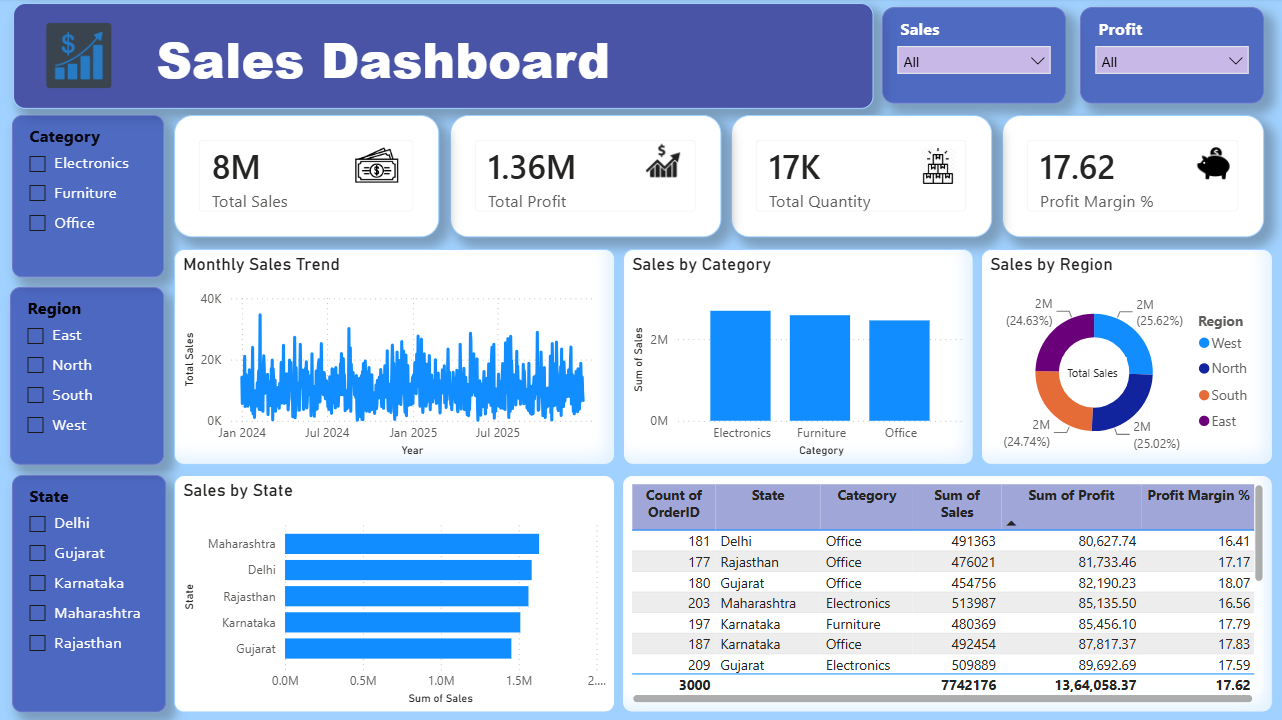

What the dashboard file says about the page in this screenshot:
{"tool":"powerbi","page":{"name":"Page 1","canvas":[1280,720],"ordinal":0},"visuals":[{"type":"textbox","box":[29.2,4.9,837.4,103.1],"z":0},{"type":"slicer","fields":{"Values":["SalesData.Category"]},"box":[28.2,113.8,147.8,157.6],"z":1000},{"type":"image","box":[44.7,16.5,97.3,78.8],"z":2000},{"type":"slicer","fields":{"Values":["SalesData.Region"]},"box":[26.3,281.1,149.8,173.1],"z":3000},{"type":"slicer","fields":{"Values":["SalesData.State"]},"box":[28.2,464,149.8,231.5],"z":4000},{"type":"slicer","fields":{"Values":["SalesData.Sales"]},"box":[874.4,8.8,179,94.3],"z":5000},{"type":"slicer","fields":{"Values":["SalesData.Profit"]},"box":[1067,8.8,179,94.3],"z":6000},{"type":"cardVisual","fields":{"Data":["SalesData.Profit Margin %"]},"box":[991.1,113.8,254.8,118.7],"z":7000},{"type":"cardVisual","fields":{"Data":["SalesData.Total Quantity"]},"box":[727.5,113.8,253.9,118.7],"z":8000},{"type":"cardVisual","fields":{"Data":["SalesData.Total Profit"]},"box":[454.2,113.8,263.6,118.7],"z":9000},{"type":"cardVisual","fields":{"Data":["SalesData.Total Sales"]},"box":[185.8,113.8,257.8,118.7],"z":10000},{"type":"image","box":[357,124.5,51.6,75.9],"z":11000},{"type":"image","box":[876.4,144.9,105,37],"z":12000},{"type":"image","box":[622.5,132.3,76.8,60.3],"z":13000},{"type":"image","box":[1158.4,134.2,78.8,58.4],"z":14000},{"type":"lineChart","title":"Monthly Sales Trend","fields":{"Y":["SalesData.Total Sales"],"Category":["SalesData.Date.Variation.Date Hierarchy.Year","SalesData.Date.Variation.Date Hierarchy.Quarter","SalesData.Date.Variation.Date Hierarchy.Month","SalesData.Date.Variation.Date Hierarchy.Day"]},"box":[185.8,244.1,428.9,210.1],"z":15000},{"type":"clusteredColumnChart","title":"Sales by Category","fields":{"Y":["Sum(SalesData.Sales)"],"Category":["SalesData.Category"]},"box":[622.5,244.1,341.4,210.1],"z":16000},{"type":"donutChart","title":"Sales by Region","fields":{"Y":["Sum(SalesData.Sales)"],"Category":["SalesData.Region"]},"box":[970.7,244.1,284,210.1],"z":17000},{"type":"clusteredBarChart","title":"Sales by State","fields":{"Y":["Sum(SalesData.Sales)"],"Category":["SalesData.State"]},"box":[185.8,464,428.9,231.5],"z":18000},{"type":"tableEx","fields":{"Values":["CountNonNull(SalesData.OrderID)","SalesData.State","SalesData.Category","Sum(SalesData.Sales)","Sum(SalesData.Profit)","SalesData.Profit Margin %"]},"box":[621.5,464,633.2,231.5],"z":19000},{"type":"textbox","box":[1049.5,349.2,63.2,28.2],"z":19001}]}

Visuals, with their boxes in screenshot pixels (x1, y1, x2, y2), scaled from the page's 1280x720 canvas onto the 1282x720 screenshot:
textbox: crop(29, 5, 868, 108)
slicer - SalesData.Category: crop(28, 114, 176, 271)
image: crop(45, 16, 142, 95)
slicer - SalesData.Region: crop(26, 281, 176, 454)
slicer - SalesData.State: crop(28, 464, 178, 696)
slicer - SalesData.Sales: crop(876, 9, 1055, 103)
slicer - SalesData.Profit: crop(1069, 9, 1248, 103)
cardVisual - SalesData.Profit Margin %: crop(993, 114, 1248, 232)
cardVisual - SalesData.Total Quantity: crop(729, 114, 983, 232)
cardVisual - SalesData.Total Profit: crop(455, 114, 719, 232)
cardVisual - SalesData.Total Sales: crop(186, 114, 444, 232)
image: crop(358, 124, 409, 200)
image: crop(878, 145, 983, 182)
image: crop(623, 132, 700, 193)
image: crop(1160, 134, 1239, 193)
"Monthly Sales Trend" lineChart: crop(186, 244, 616, 454)
"Sales by Category" clusteredColumnChart: crop(623, 244, 965, 454)
"Sales by Region" donutChart: crop(972, 244, 1257, 454)
"Sales by State" clusteredBarChart: crop(186, 464, 616, 696)
tableEx - CountNonNull(SalesData.OrderID) x SalesData.State: crop(622, 464, 1257, 696)
textbox: crop(1051, 349, 1114, 377)
